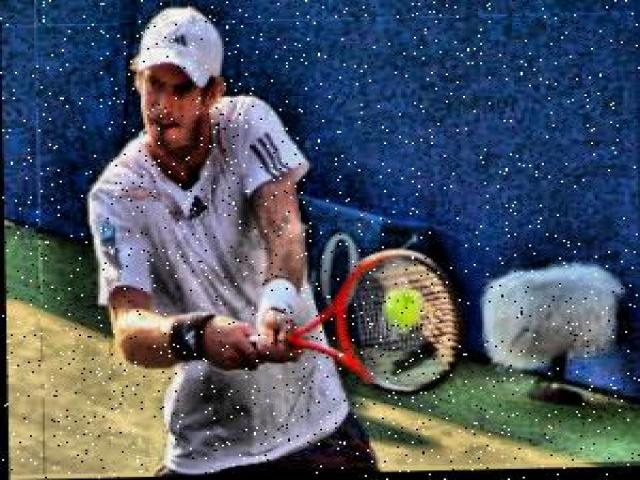tennis-ball: (383, 288, 422, 329)
